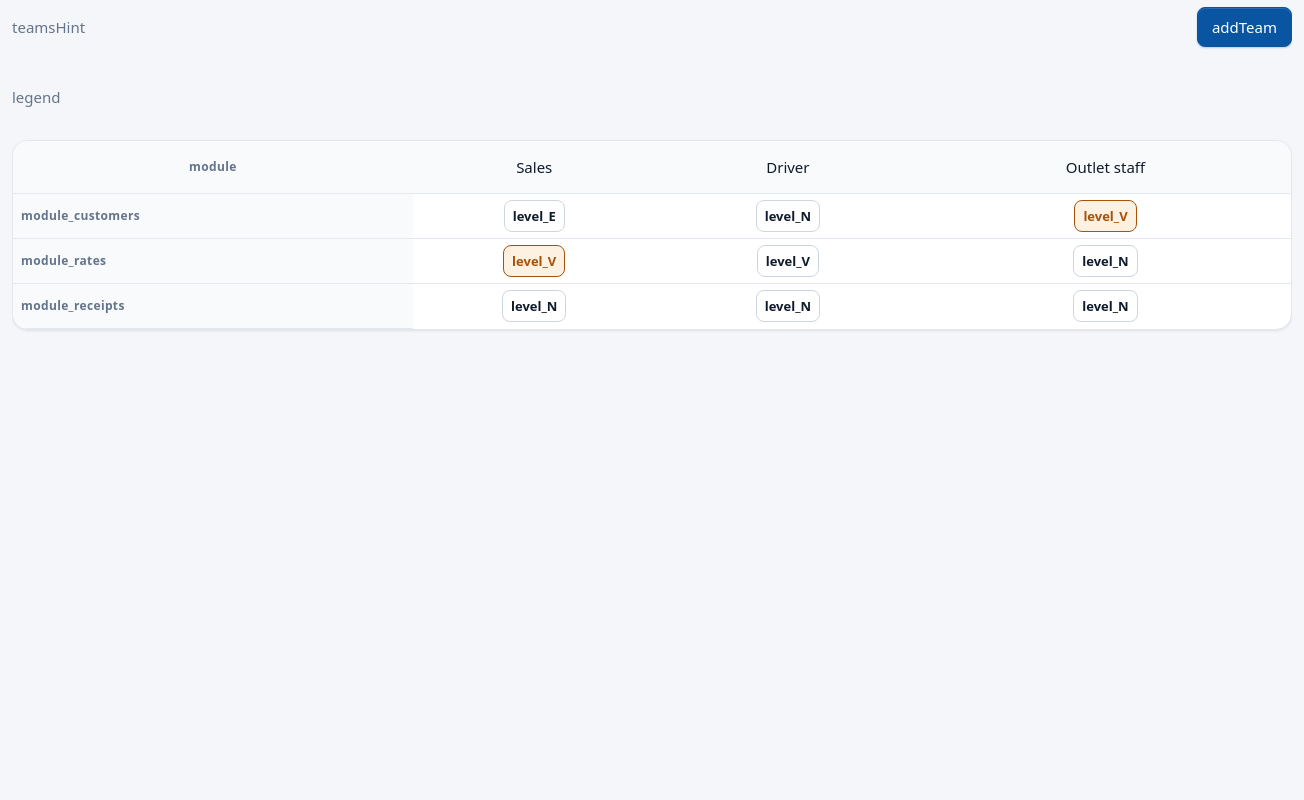
Test: TeamsTab › lets the driver team be switched off and back, only within its defaults
Click the button "Driver" at (788, 167), box [751,147,824,187]
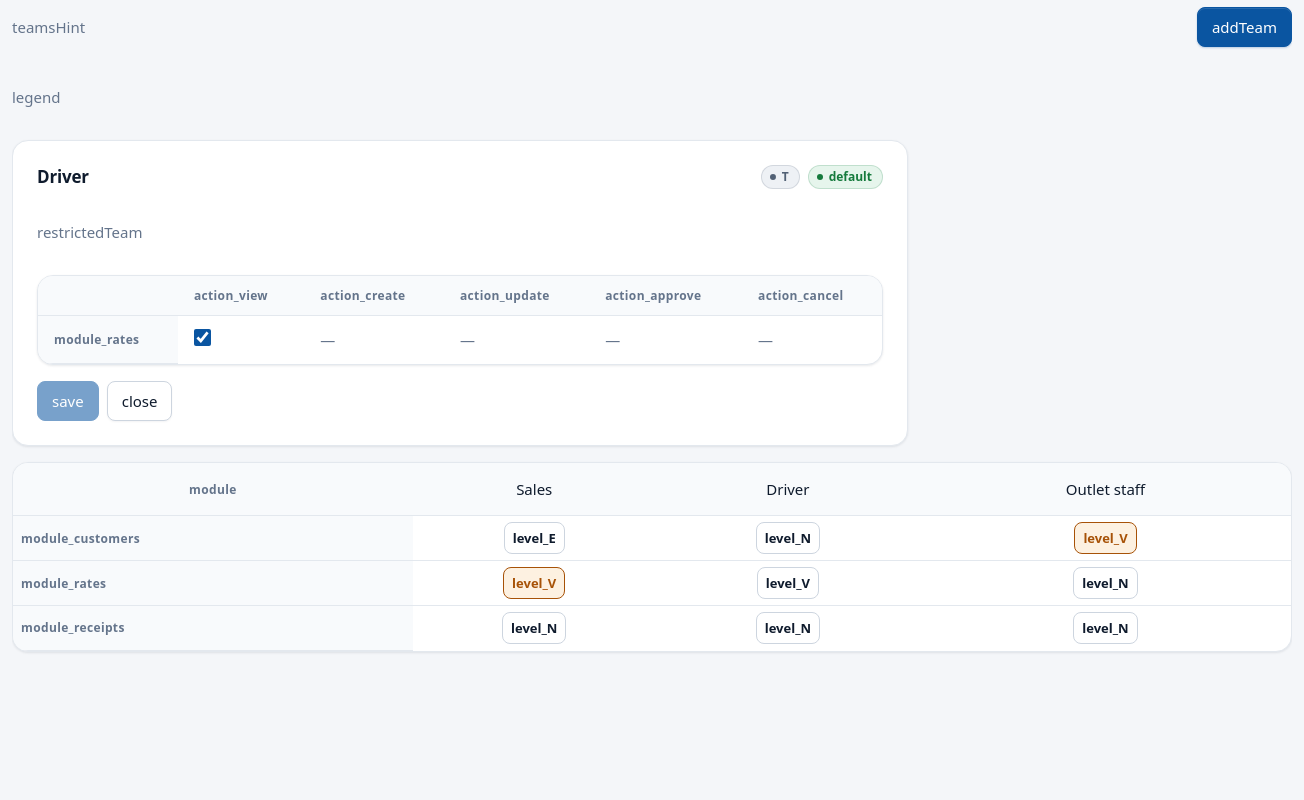
Check: the text "restrictedTeam" is shown, box [37,222,142,242]
